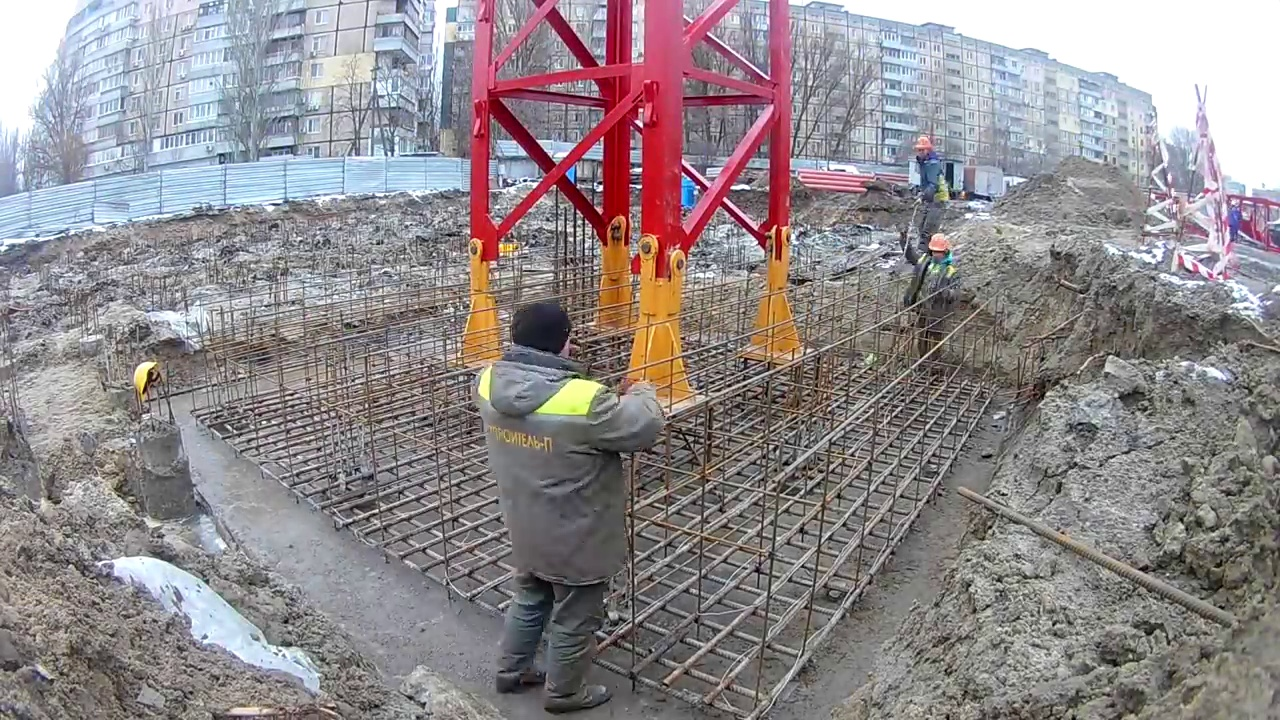helmet: (131, 359, 161, 404), (926, 233, 949, 252), (913, 137, 931, 150)
helmet-off: (511, 300, 575, 367)
helmet-on: (926, 233, 949, 263), (914, 137, 934, 160)
person: (477, 292, 669, 720), (907, 233, 956, 378), (913, 137, 949, 233)
